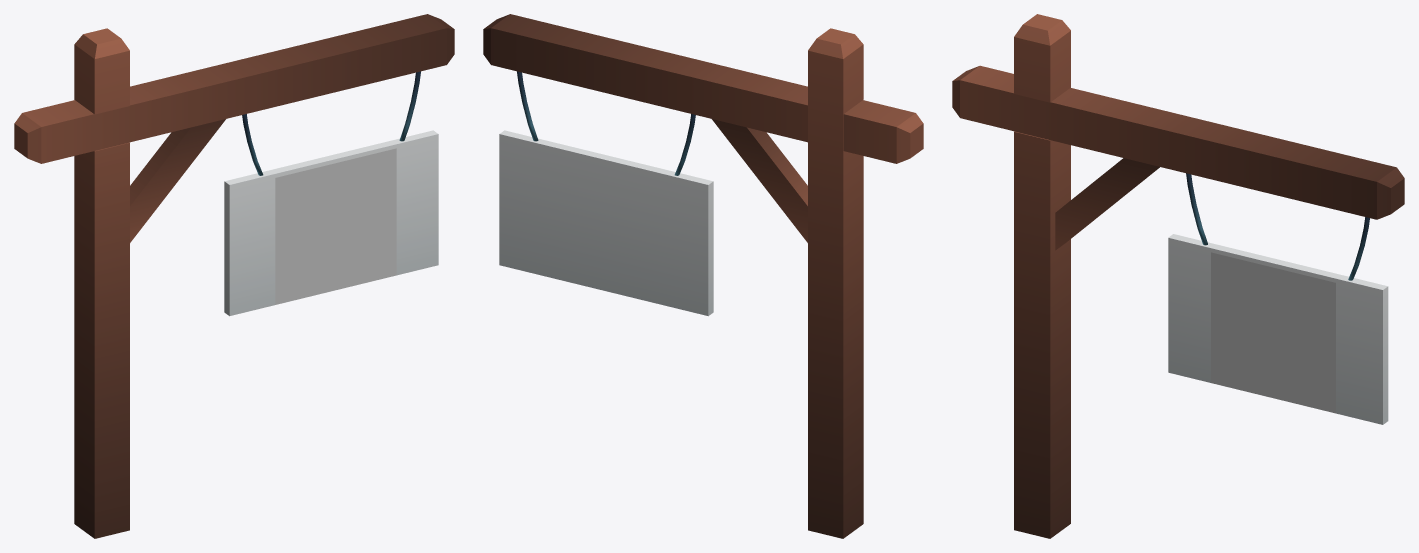
The model's file is SignPost.fbx.
3 renders of one model, left to right at view 1: azimuth 30°, elevation 25°; view 2: azimuth 150°, elevation 25°; view 3: azimuth 330°, elevation 25°, orthographic. The views are drawn at different scales.
Parts seen in each view (by area): view 1: Sign; view 2: Sign; view 3: Sign.
Part boxes in pixels (<box>): Sign: <box>14,14,454,538</box>; Sign: <box>483,14,923,538</box>; Sign: <box>952,14,1404,538</box>.
Bounding box in the file's own units: 908 × 998 × 75.
